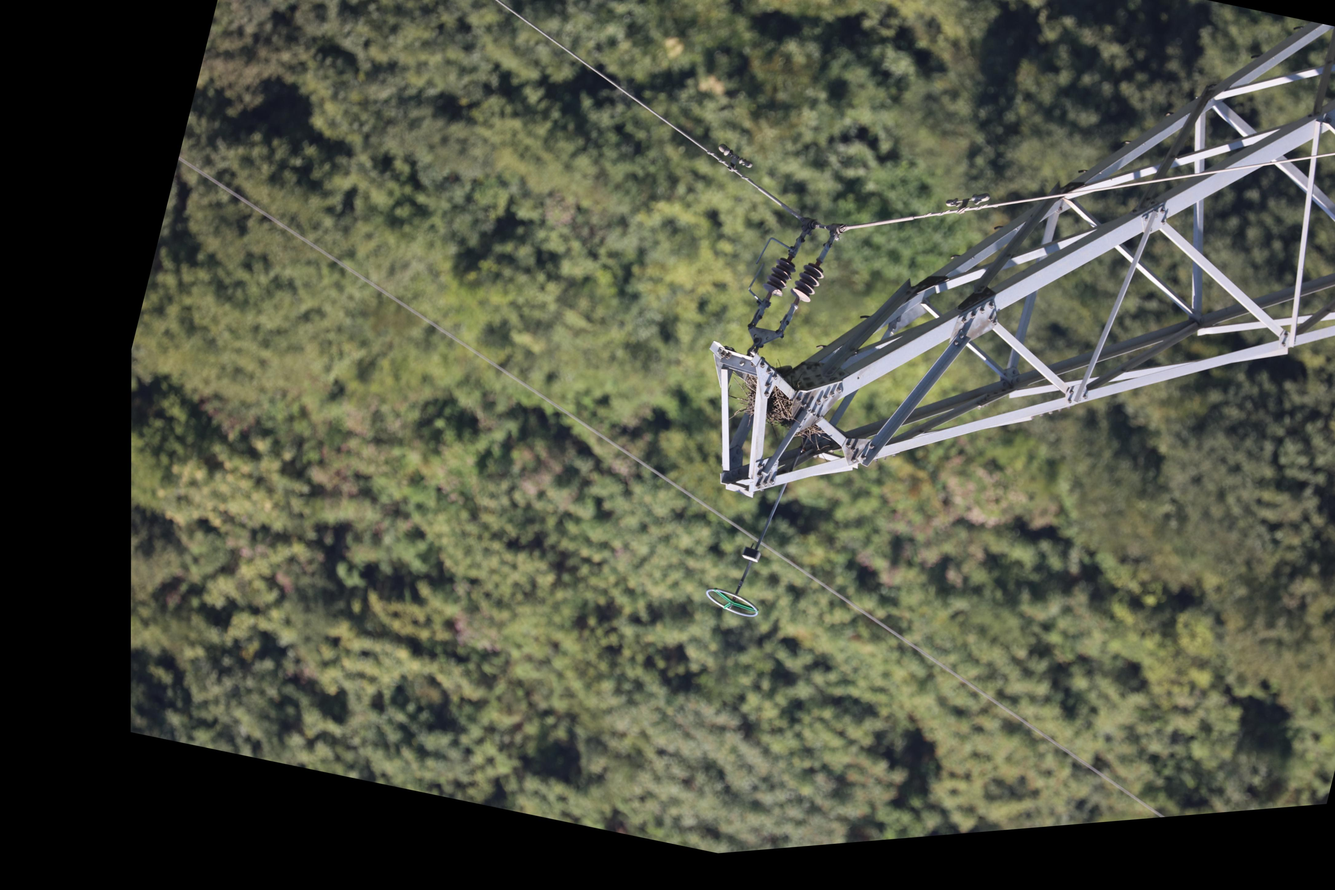damper: (942, 180, 993, 225), (710, 137, 758, 180)
